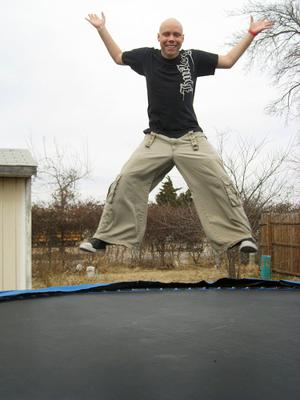person: (80, 6, 272, 261)
